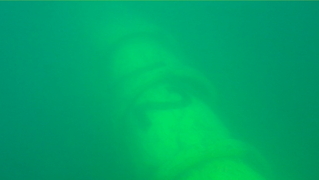2: (132, 85, 192, 131)
pipe: (96, 1, 276, 179)
